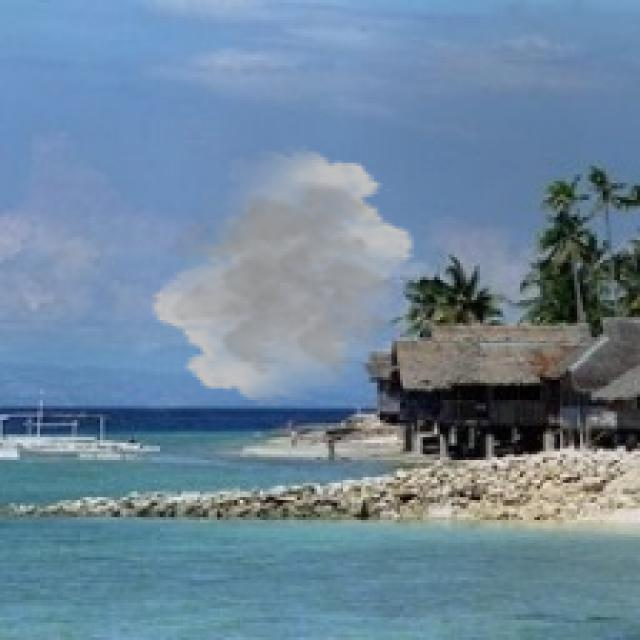smoke: (149, 146, 417, 406)
